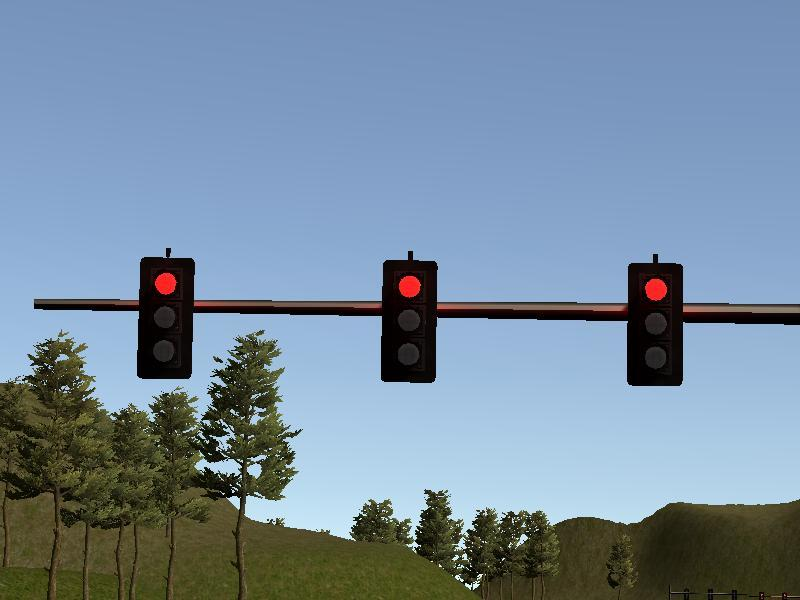Red: (382, 258, 437, 382), (629, 263, 683, 386), (141, 257, 189, 379)
